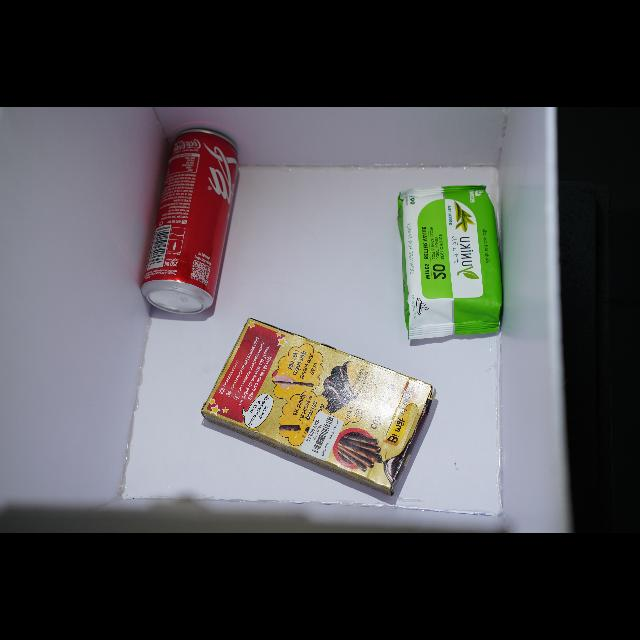banh_toppo_socola: (201, 318, 434, 495)
coca_cola: (141, 129, 238, 314)
khan_giay: (398, 185, 502, 340)
